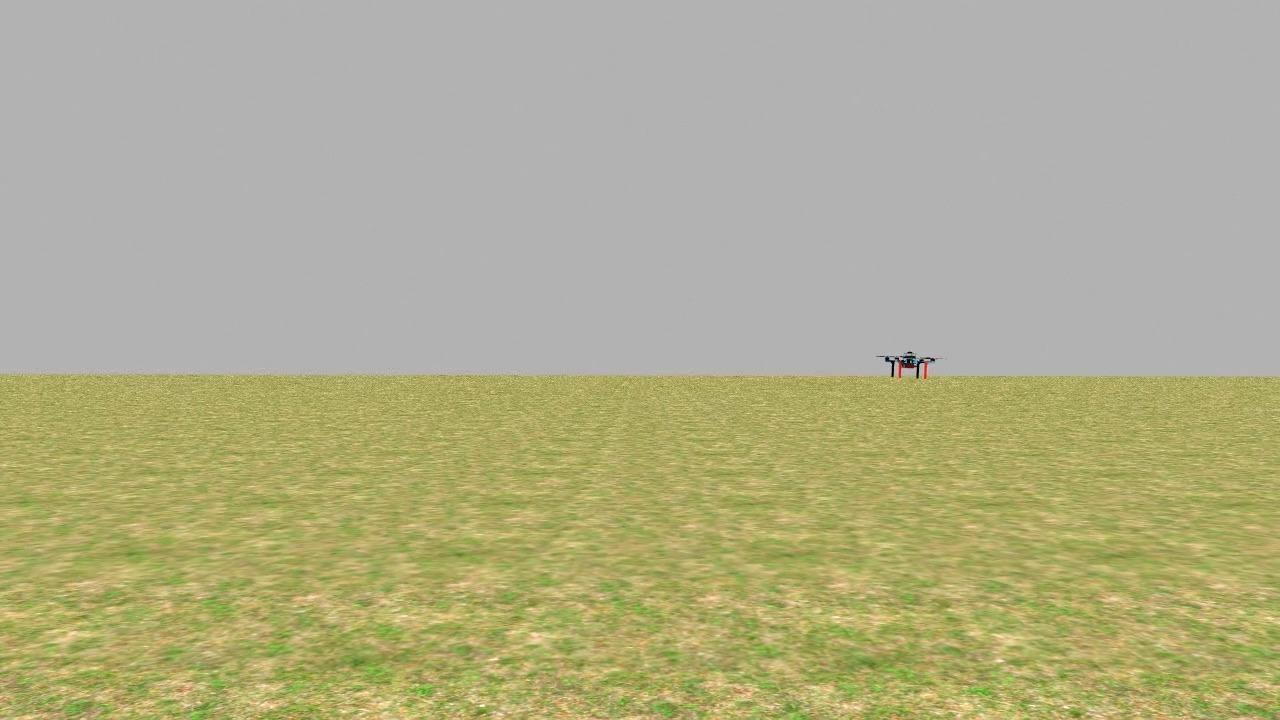UAV: (870, 346, 946, 392)
